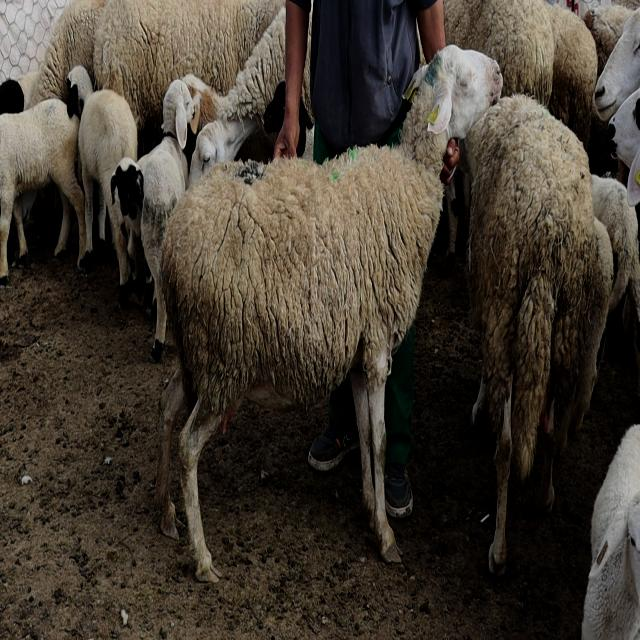Score_3: (155, 45, 503, 582)
